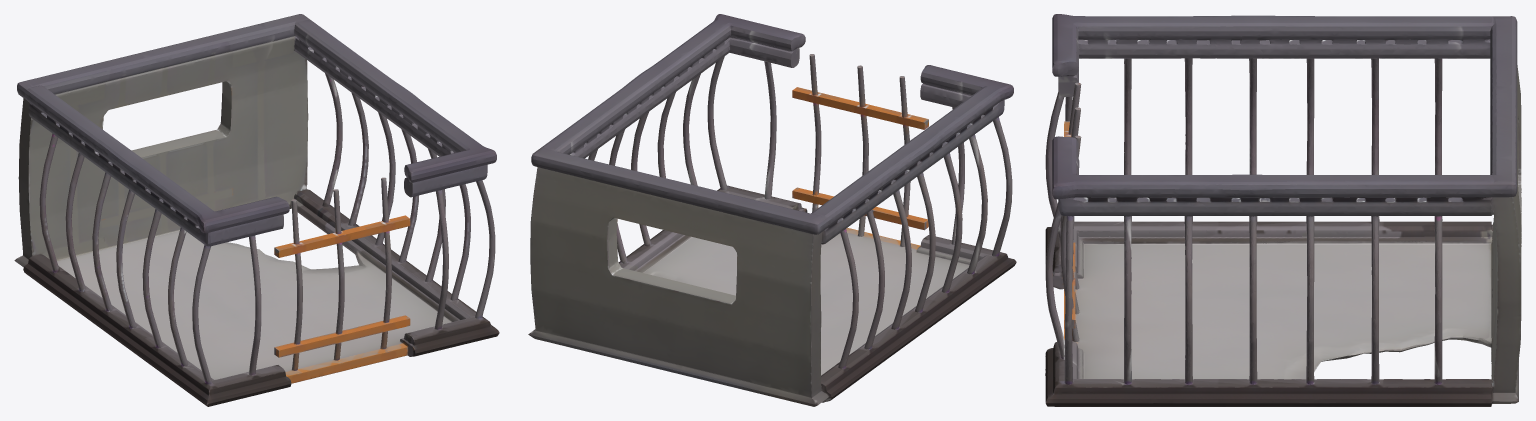
The model's file is base_basic_pbr.fbx.
3 views of the same model, side by side, from view 1: azimuth 30°, elevation 25°; view 2: azimuth 150°, elevation 25°; view 3: azimuth 270°, elevation 25° (orthographic). The views are drawn at different scales.
Visible parts, largest first — view 1: model; view 2: model; view 3: model.
Boxes of the visible parts, box(x1,y1,x2,y2) form: model: box(14, 14, 499, 406); model: box(528, 14, 1016, 406); model: box(1045, 14, 1521, 406).
Bounding box in the file's own units: 169 × 99.99 × 190.
Materials: 1 (1 with a texture image).
